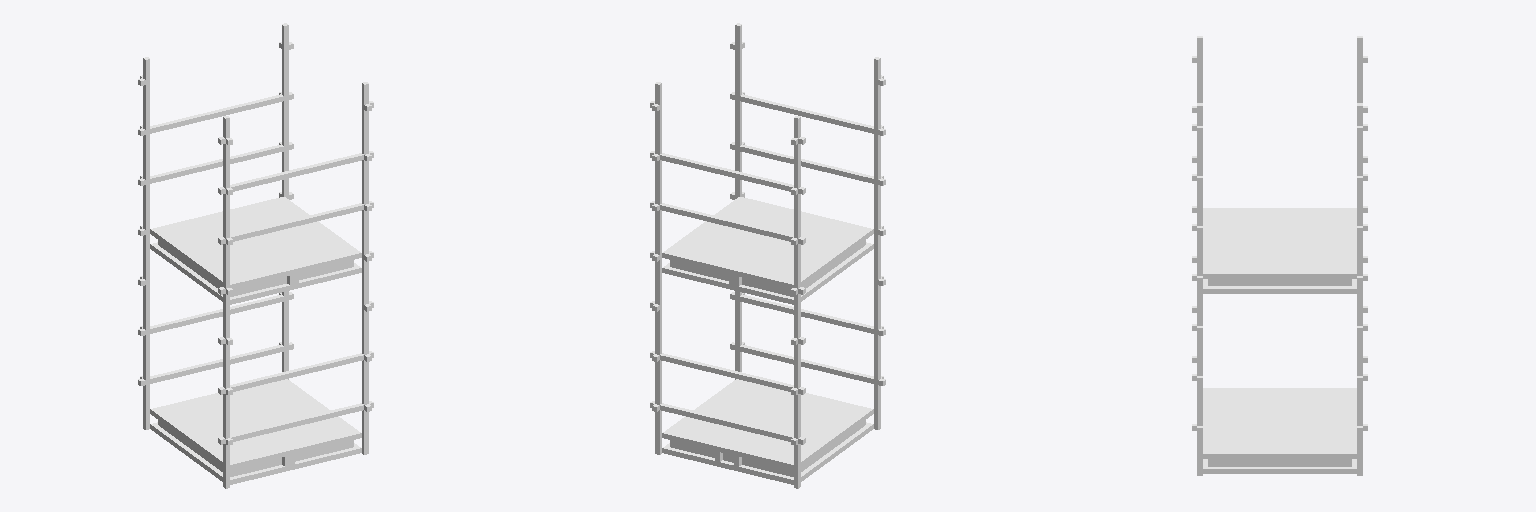
File: GDS2_Construction-3.obj
3 renders of one model, left to right at view 1: azimuth 30°, elevation 25°; view 2: azimuth 150°, elevation 25°; view 3: azimuth 270°, elevation 25°, orthographic.
Visible parts, largest first — view 1: GDS2_Construction-3; view 2: GDS2_Construction-3; view 3: GDS2_Construction-3.
Part boxes in pixels (left/top/right/bottom): GDS2_Construction-3: left=138, top=23, right=373, bottom=488; GDS2_Construction-3: left=650, top=23, right=885, bottom=488; GDS2_Construction-3: left=1192, top=36, right=1367, bottom=475.
Bounding box in the file's own units: 3.2 × 7.4 × 3.2.